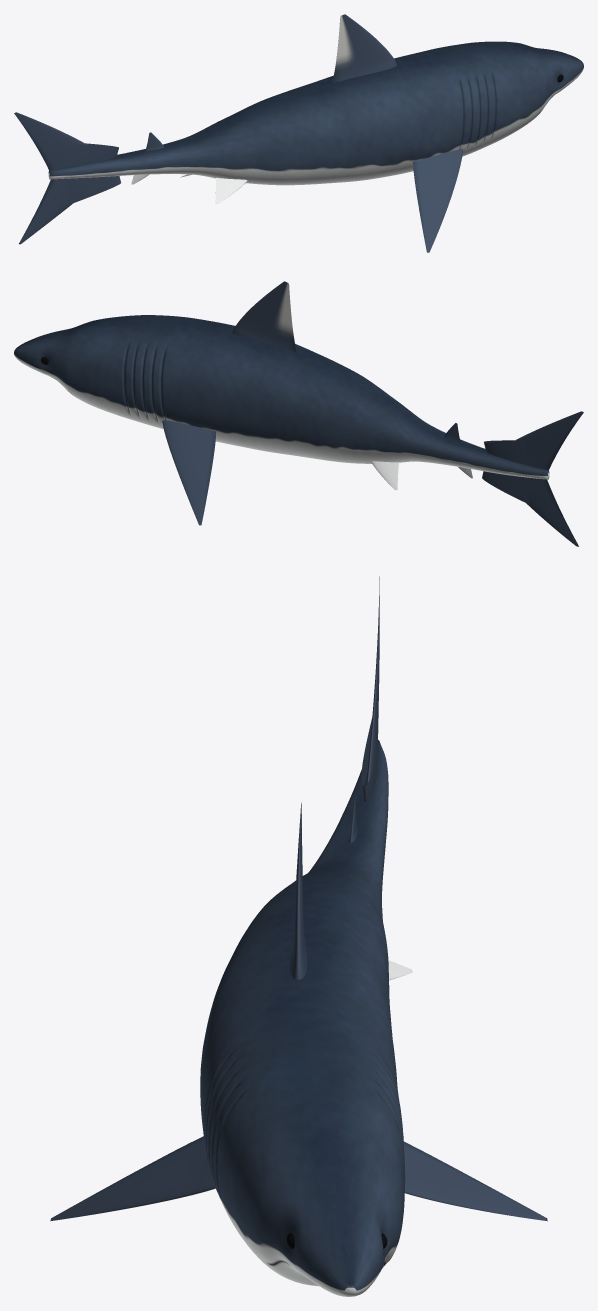
Rendered from porbeagle.glb.
The picture shows the model from 3 angles, top to bottom: view 1: azimuth 30°, elevation 25°; view 2: azimuth 150°, elevation 25°; view 3: azimuth 270°, elevation 25°; orthographic projection. The views are drawn at different scales.
Visible parts, largest first — view 1: Porbeagle_Body, Porbeagle_Fins; view 2: Porbeagle_Body, Porbeagle_Fins; view 3: Porbeagle_Body, Porbeagle_Fins.
Part boxes in pixels (x1,y1,x2,y2): Porbeagle_Body: (48,41,583,185); Porbeagle_Fins: (14,14,462,252); Porbeagle_Body: (14,315,549,479); Porbeagle_Fins: (162,281,583,546); Porbeagle_Body: (200,740,405,1296); Porbeagle_Fins: (50,576,547,1221).
Bounding box in the file's own units: 2.5 × 0.8412 × 0.9576.
3 materials, 1 textured.
